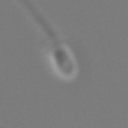normal: (22, 1, 59, 47)
